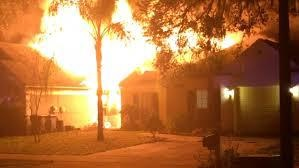fire: (18, 0, 267, 126)
